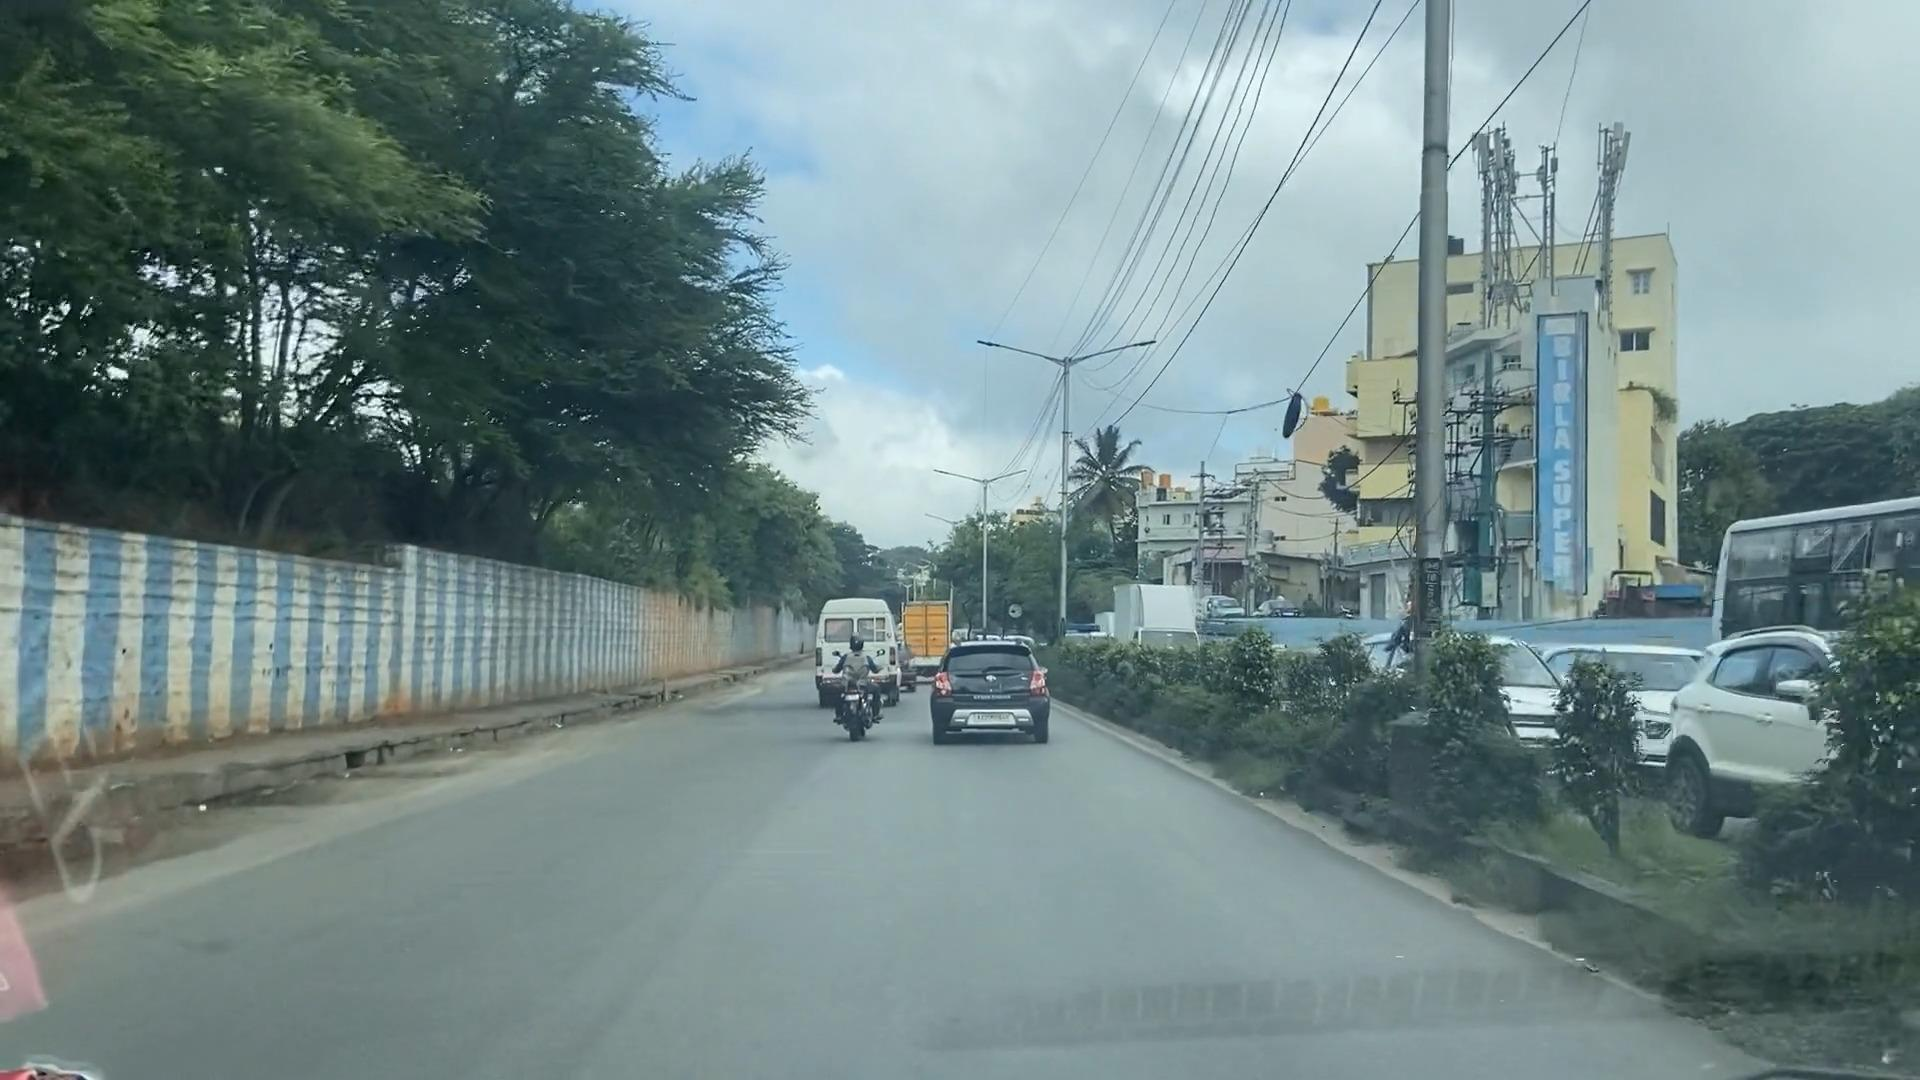LMV: (926, 634, 1040, 745), (832, 630, 876, 760)
